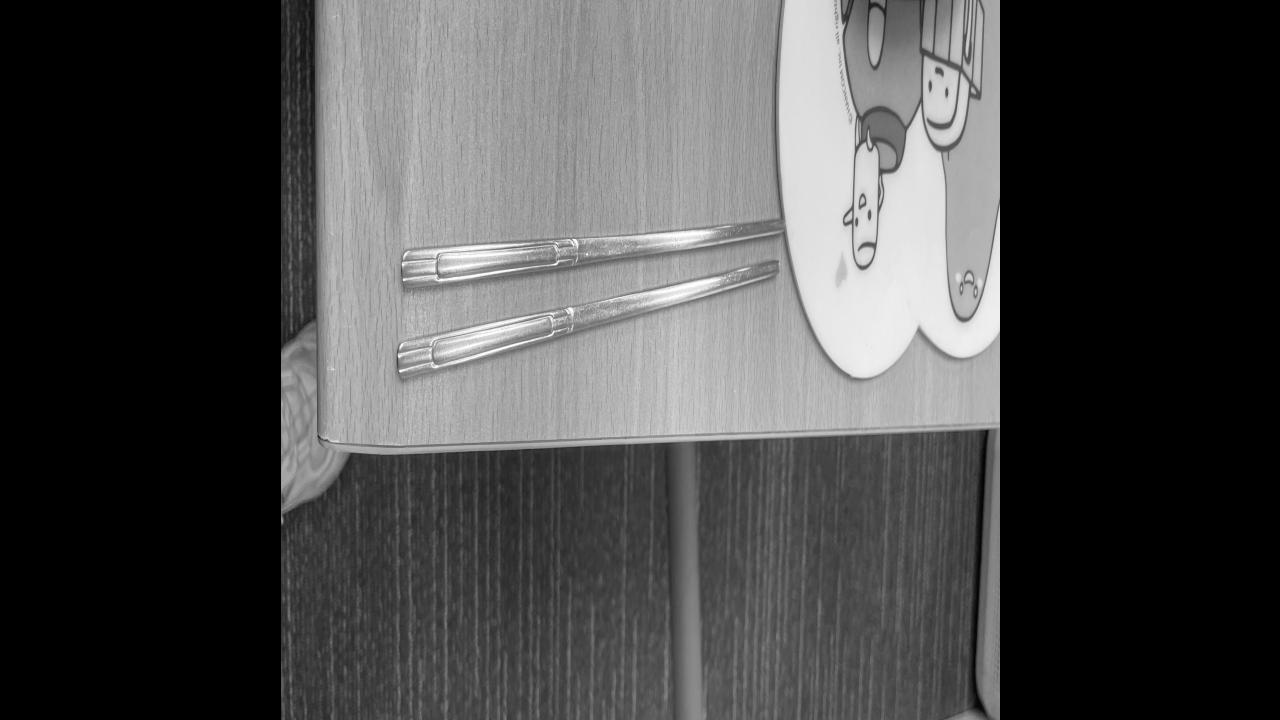chopstick: (397, 218, 782, 378)
